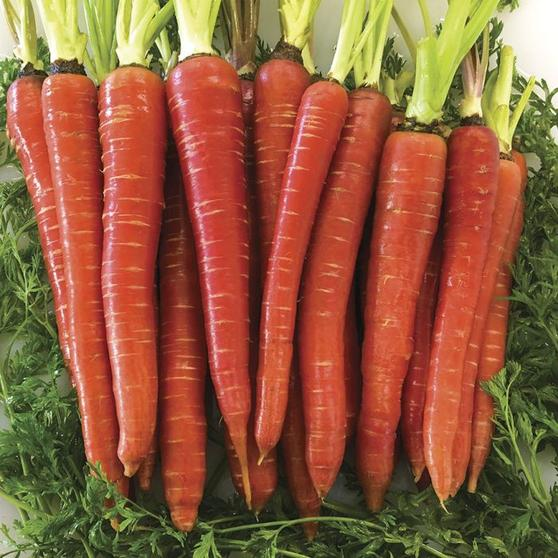carrot: (163, 55, 266, 505), (32, 58, 124, 493), (417, 115, 506, 518), (262, 73, 347, 473), (362, 120, 445, 514), (92, 60, 169, 479)
